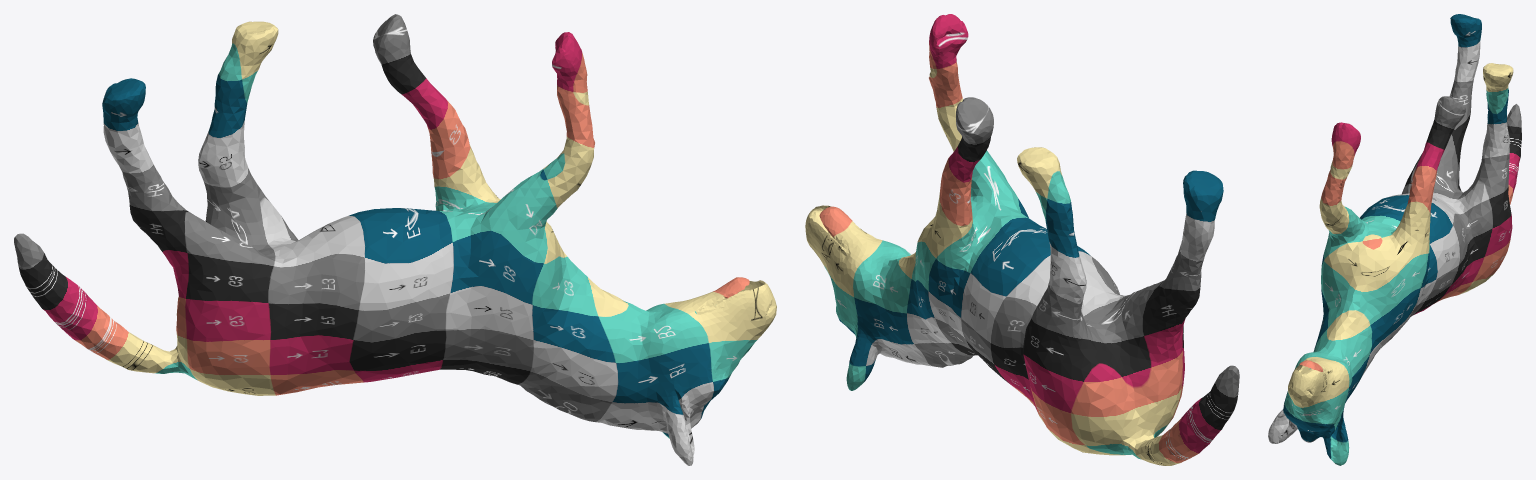
File: cow_03-horse_01.obj
The picture shows the model from 3 angles, left to right: view 1: azimuth 30°, elevation 25°; view 2: azimuth 150°, elevation 25°; view 3: azimuth 270°, elevation 25°; orthographic projection. The views are drawn at different scales.
Visible parts, largest first — view 1: cow_03-horse_01_export; view 2: cow_03-horse_01_export; view 3: cow_03-horse_01_export.
Part boxes in pixels (bbox=[...]): cow_03-horse_01_export: bbox=[14, 14, 776, 465]; cow_03-horse_01_export: bbox=[805, 14, 1239, 465]; cow_03-horse_01_export: bbox=[1268, 14, 1521, 465].
Bounding box in the file's own units: 1.09 × 0.7289 × 0.5466.
